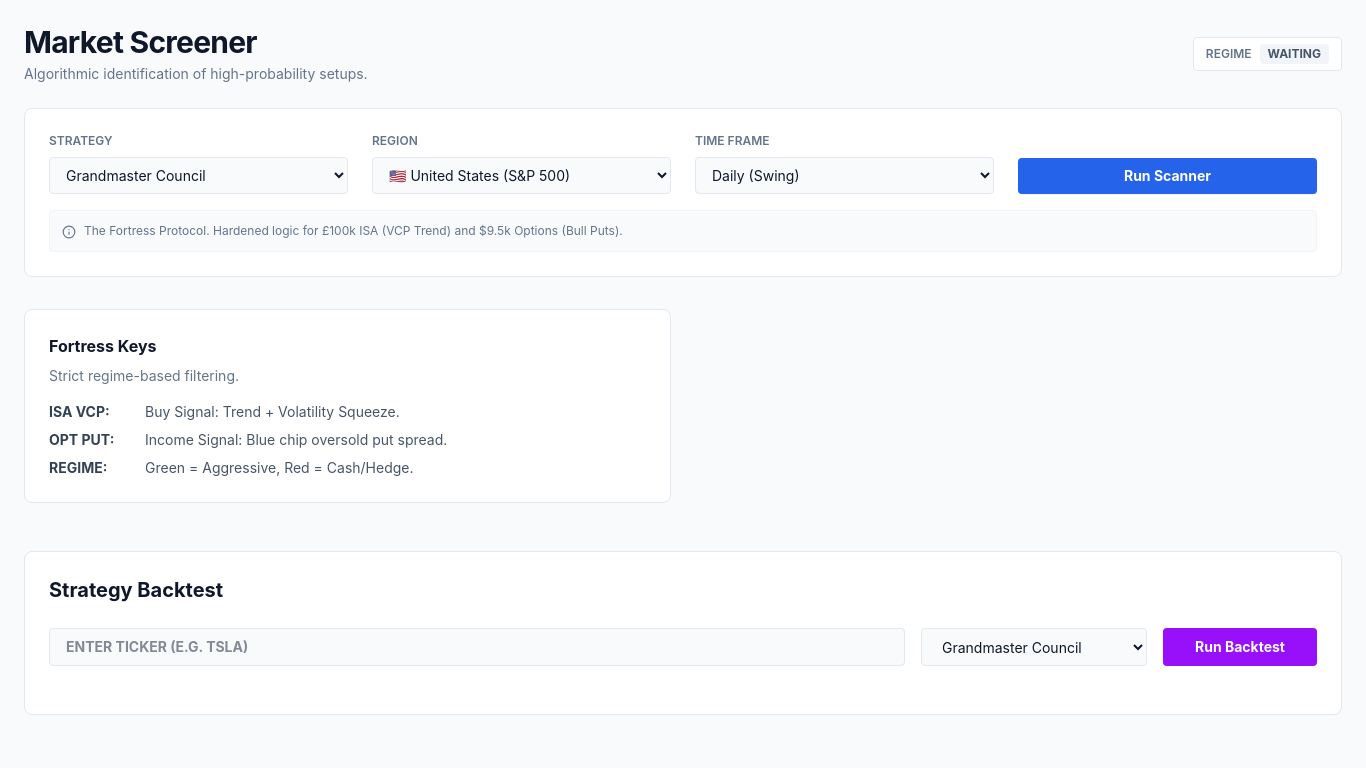
Scenario: Screener Component › fetches and displays data when Run Scanner is clicked
Click the button "Run Scanner". click: (1168, 176)
box: [1018, 158, 1317, 194]
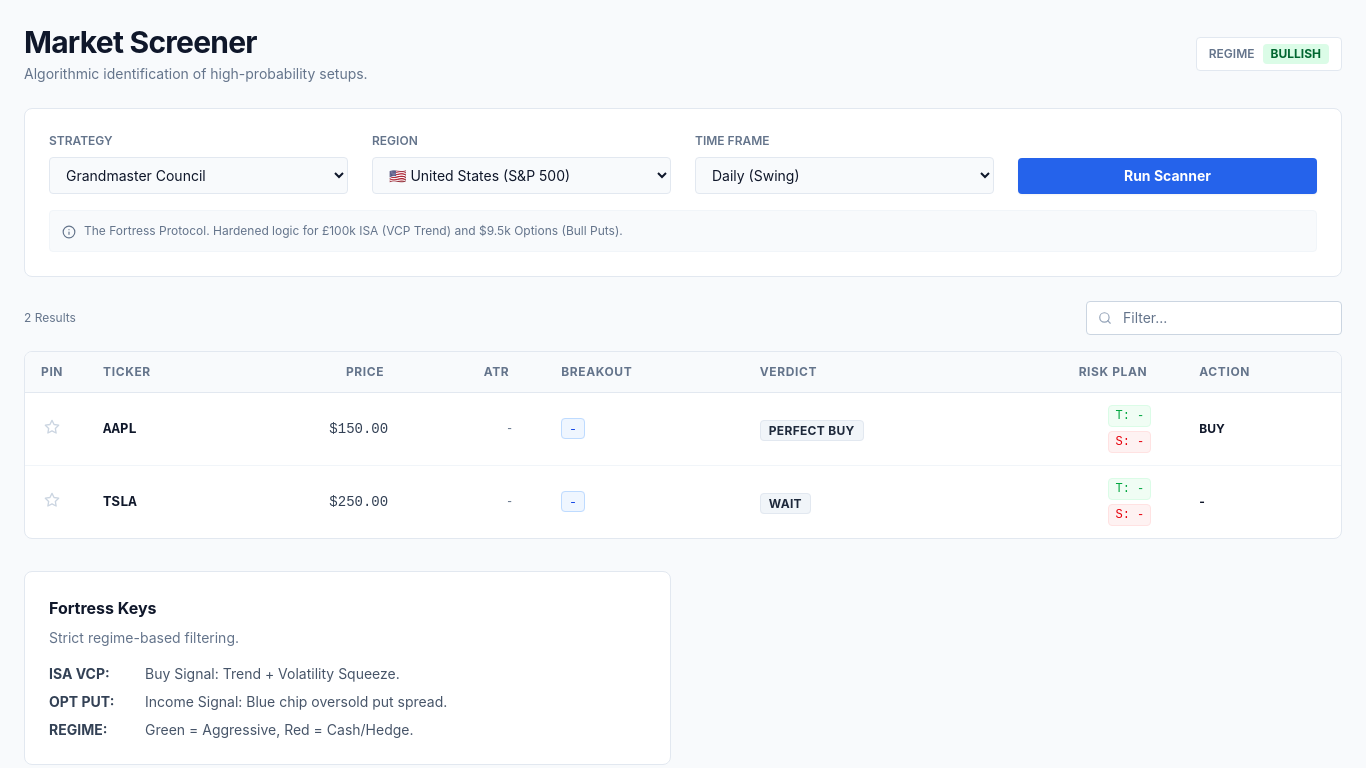
Expected: the text "AAPL" is shown, [103, 421, 137, 437]
Expected: the text "TSLA" is shown, [103, 494, 137, 510]
Expected: the text "$150.00" is shown, [240, 392, 412, 466]
